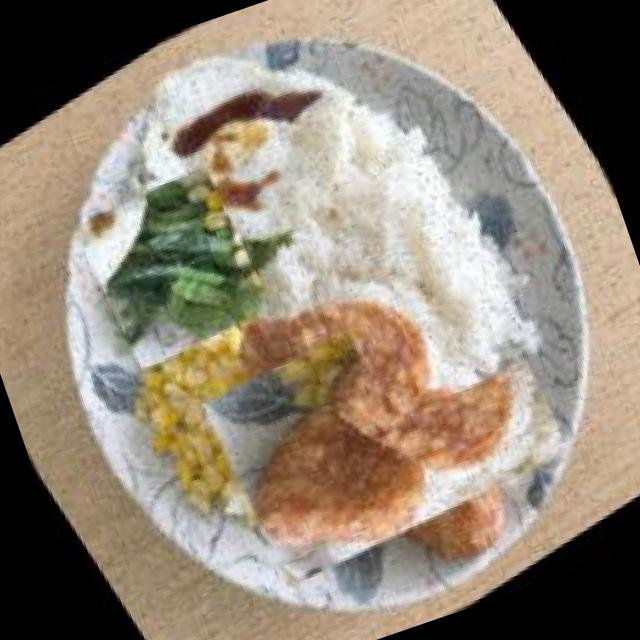fried_eggs: (68, 0, 421, 316)
rice: (239, 76, 596, 463)
triangle_hash_brown: (166, 204, 608, 640)
water_spinach: (43, 134, 304, 395)
